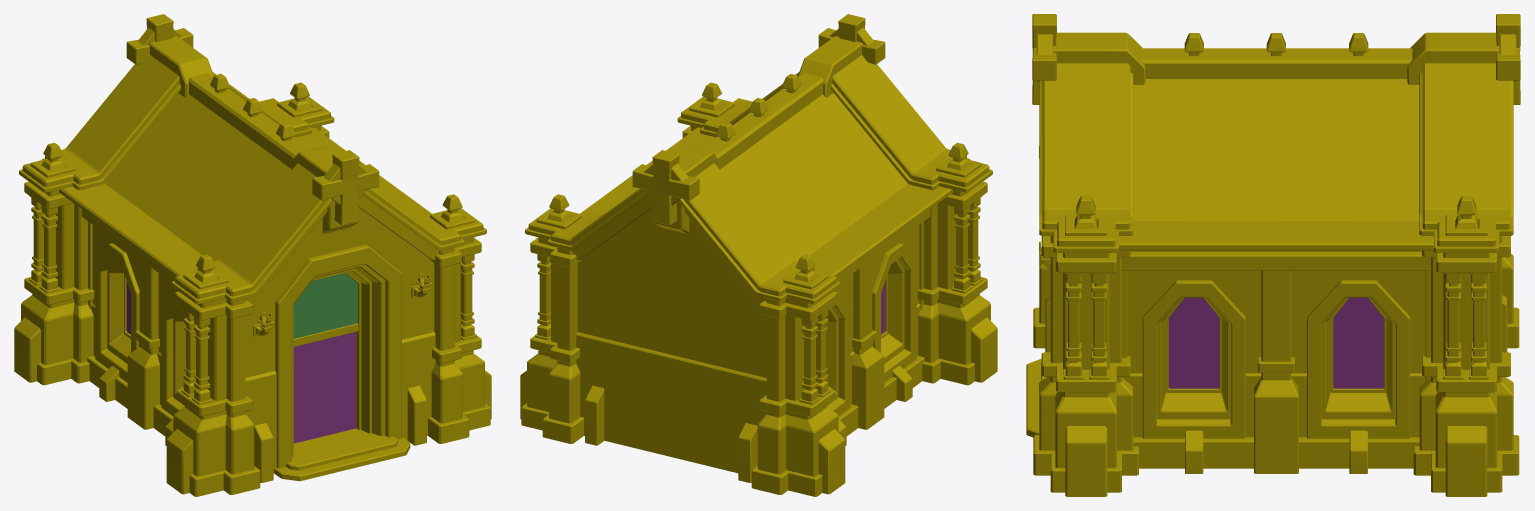
Rendered from Crypt.fbx.
The picture shows the model from 3 angles, left to right: view 1: azimuth 30°, elevation 25°; view 2: azimuth 150°, elevation 25°; view 3: azimuth 270°, elevation 25°; orthographic projection. The views are drawn at different scales.
Parts seen in each view (by area): view 1: Crypt, Door, Grid, Lamps; view 2: Crypt; view 3: Crypt.
Boxes of the visible parts, left/top/right/bottom form: Crypt: left=14, top=14, right=491, bottom=496; Door: left=293, top=332, right=356, bottom=443; Grid: left=293, top=273, right=358, bottom=346; Lamps: left=253, top=273, right=432, bottom=336; Crypt: left=520, top=14, right=997, bottom=496; Crypt: left=1026, top=14, right=1520, bottom=496.
Size of the model in its own units: 2.57 by 2.44 by 2.85.
